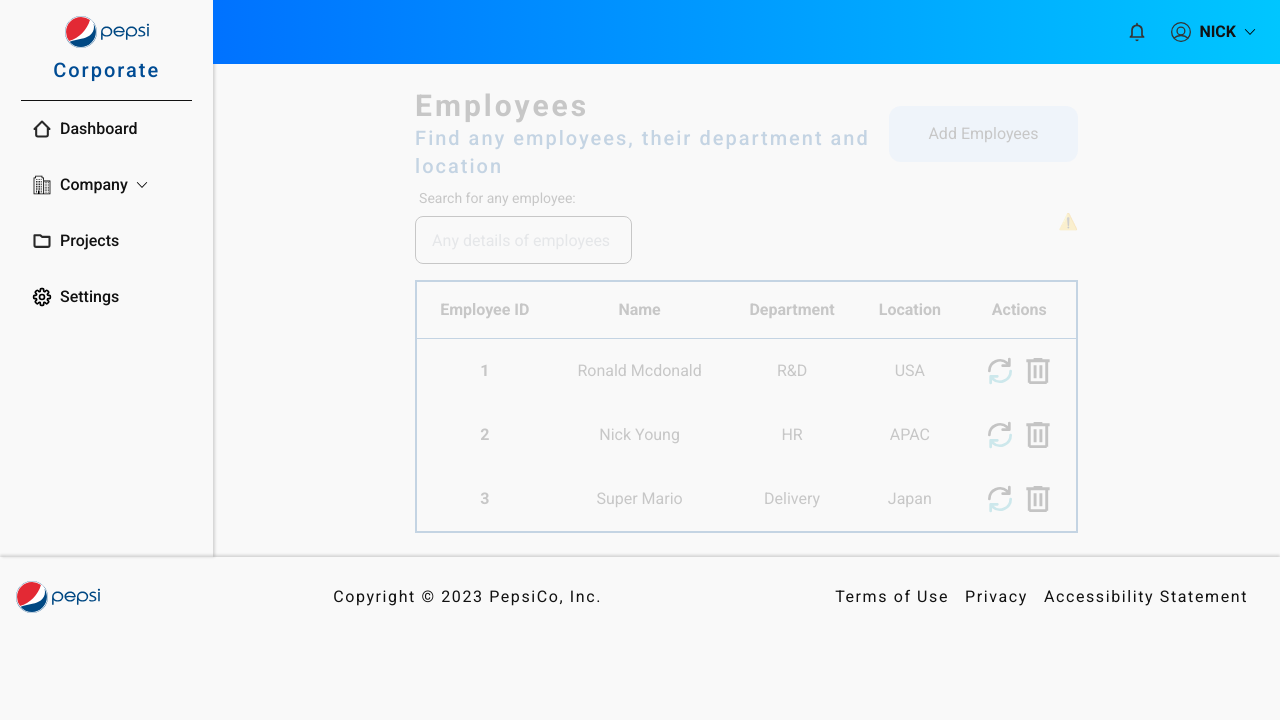
Test: Data table rendering › Only 1st cell is render when search input is similar
The image size is (1280, 720).
Step 1. Type "ronald" into the field labelled "Search for any employee:" → {"x": 524, "y": 240}, box [415,216,632,264]
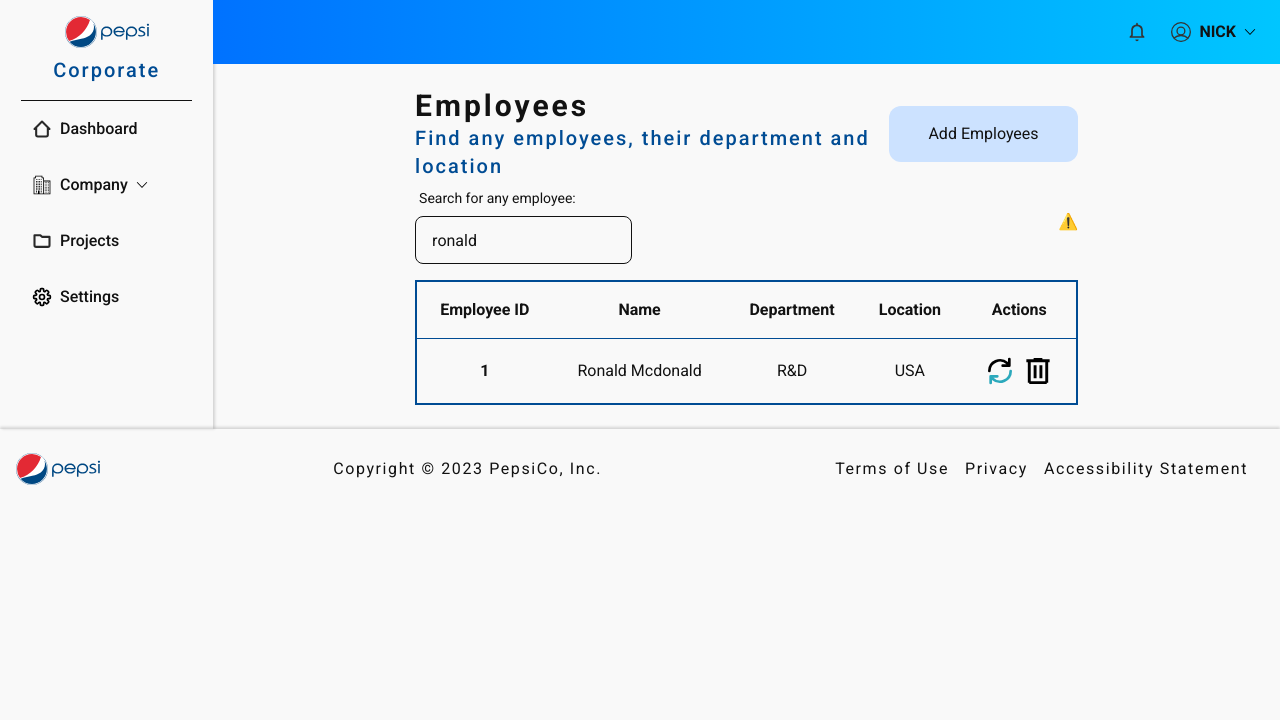
expect the cell "Ronald Mcdonald" is shown: met, box [552,338,727,404]
expect the cell "Nick Young" is gone: met
